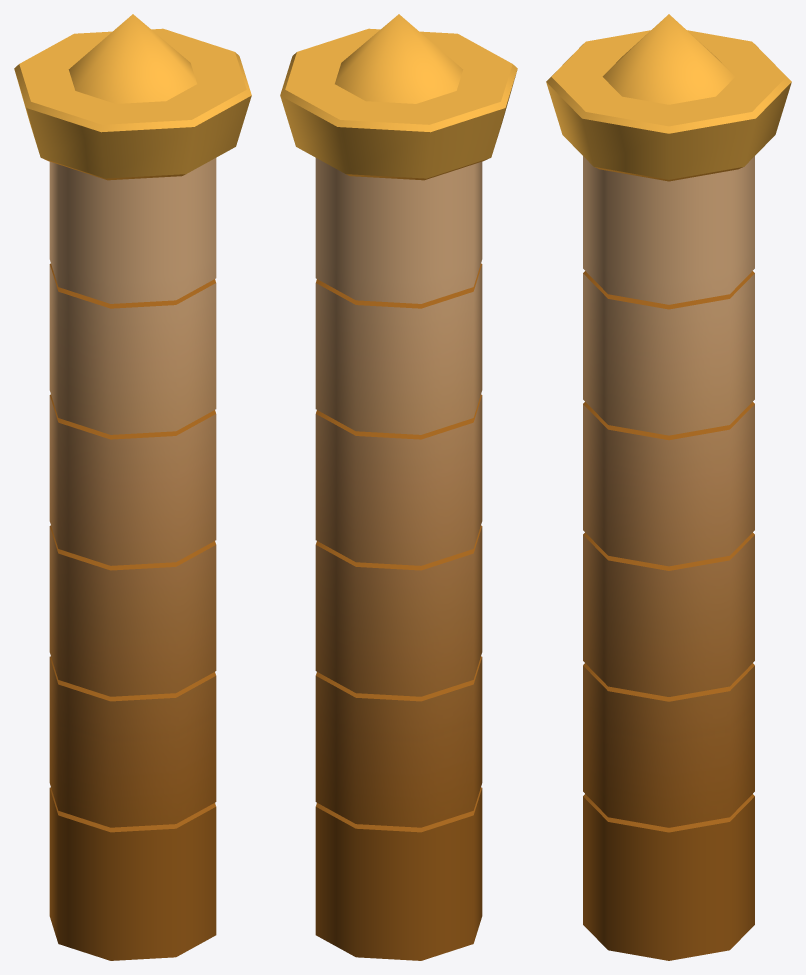
The model's file is Column_01.fbx.
The picture shows the model from 3 angles, left to right: view 1: azimuth 30°, elevation 25°; view 2: azimuth 150°, elevation 25°; view 3: azimuth 270°, elevation 25°; orthographic projection.
Visible parts, largest first — view 1: Column_01; view 2: Column_01; view 3: Column_01.
Boxes of the visible parts, bbox=[...] form: Column_01: bbox=[14, 14, 251, 960]; Column_01: bbox=[280, 14, 517, 960]; Column_01: bbox=[546, 14, 791, 960].
Size of the model in its own units: 125 by 510 by 125.
